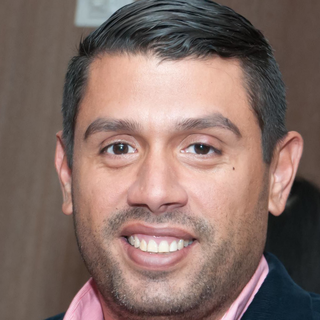eye: (96, 136, 141, 161), (175, 139, 224, 161)
